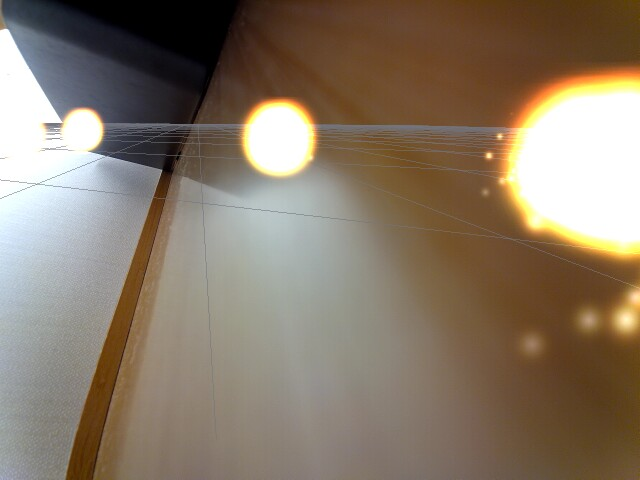firebig: (487, 66, 640, 277)
